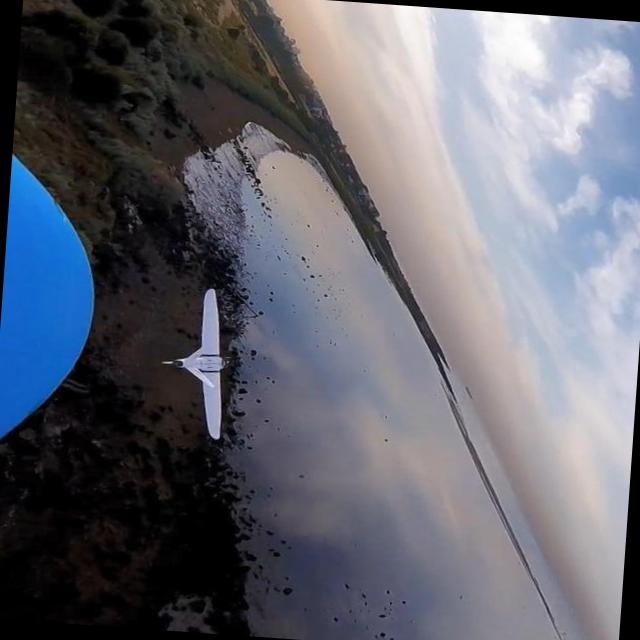UAV: (126, 281, 258, 442)
